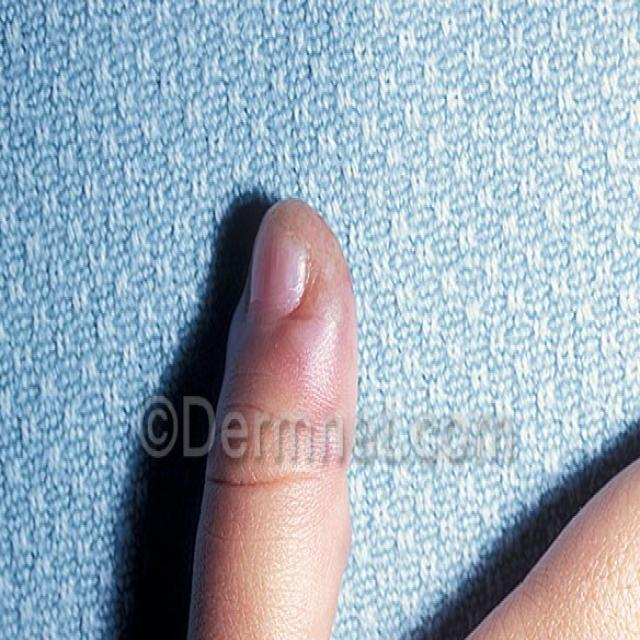Viral Infections: (283, 284, 359, 483)
